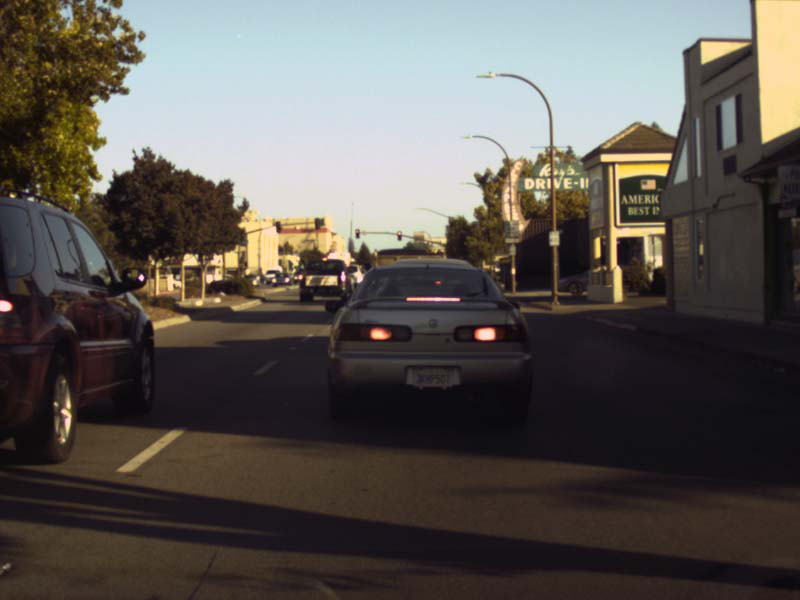Red: (396, 230, 401, 240), (355, 229, 359, 238)
